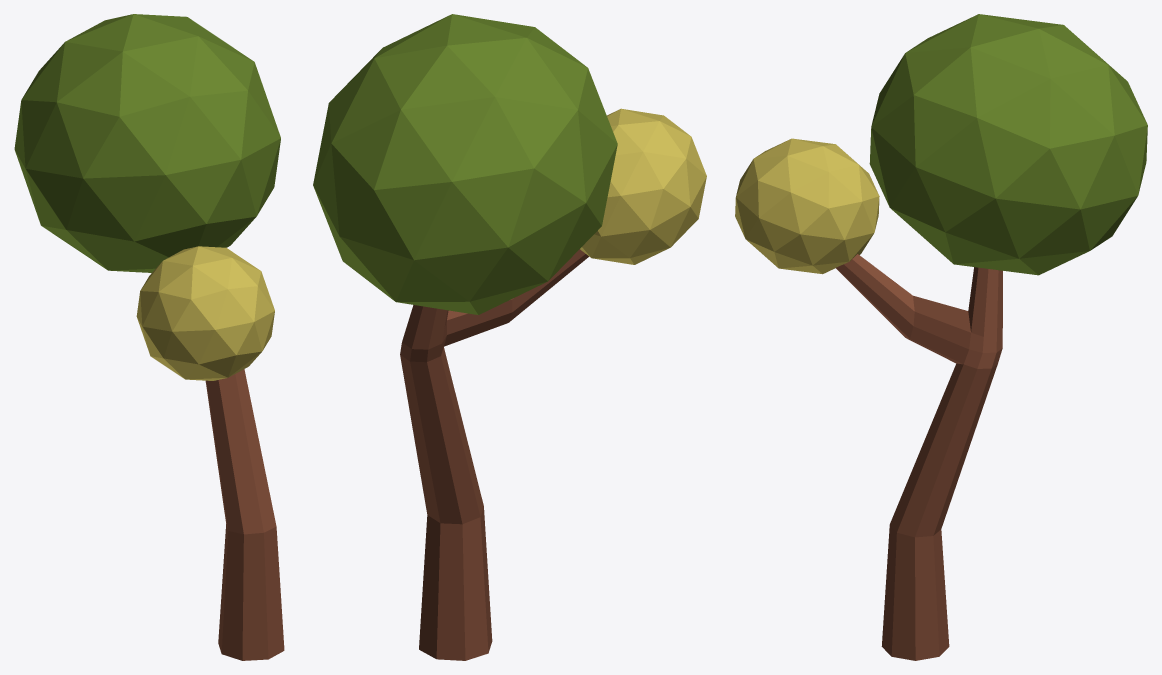
The model's file is Tree_02_autumn_vc.fbx.
The picture shows the model from 3 angles, left to right: view 1: azimuth 30°, elevation 25°; view 2: azimuth 150°, elevation 25°; view 3: azimuth 270°, elevation 25°; orthographic projection. The views are drawn at different scales.
Parts seen in each view (by area): view 1: Tree_02_autumn_vc; view 2: Tree_02_autumn_vc; view 3: Tree_02_autumn_vc.
Part boxes in pixels (x1,y1,x2,y2): Tree_02_autumn_vc: (14, 14, 284, 660); Tree_02_autumn_vc: (313, 14, 706, 660); Tree_02_autumn_vc: (735, 14, 1147, 660).
Bounding box in the file's own units: 1.86 × 4.61 × 2.92.
